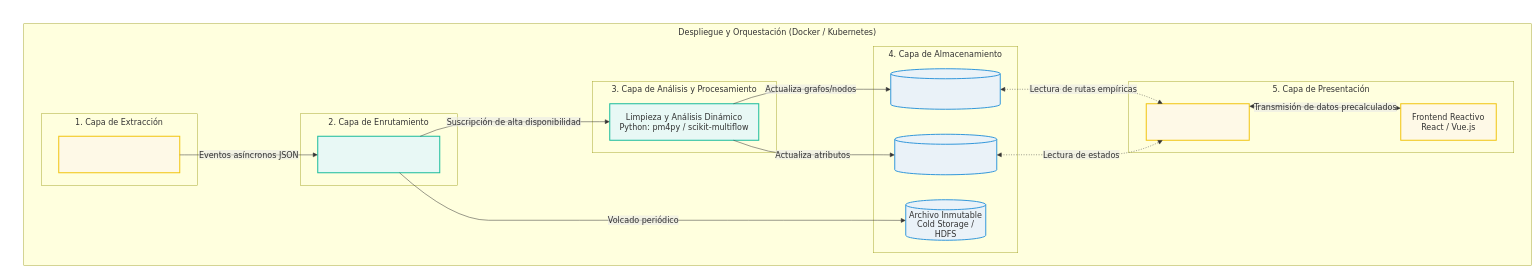
The diagram is 1540 pixels wide and 274 high, and some of its shapes have lost their labels. Each missing label, with the centre of its shape:
Backend API RESTful Node.js / Express: the point at 1198,121
Broker de Mensajes Apache Kafka / RabbitMQ: the point at 378,154
Estado: Modelos de Procesos Neo4j / PostgreSQL: the point at 945,89
Estado: Perfiles Dinámicos MongoDB: the point at 945,154
LMS: Moodle Webhooks / Plugin nativo: the point at 119,154
